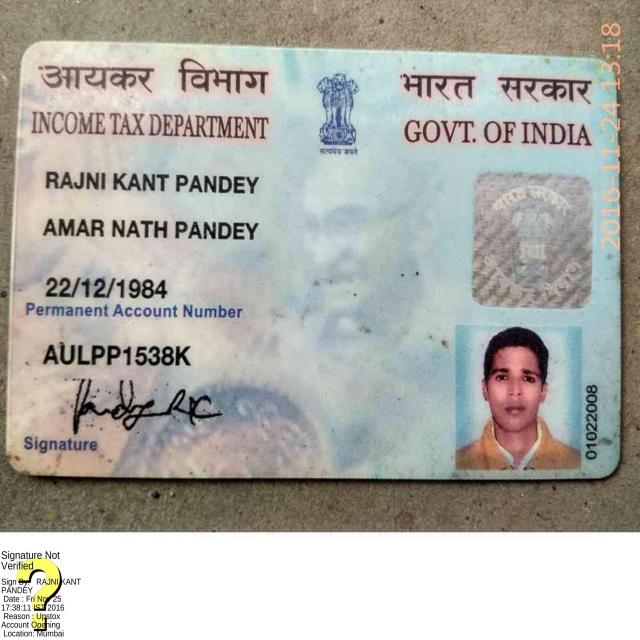pan_card: (5, 45, 618, 479)
